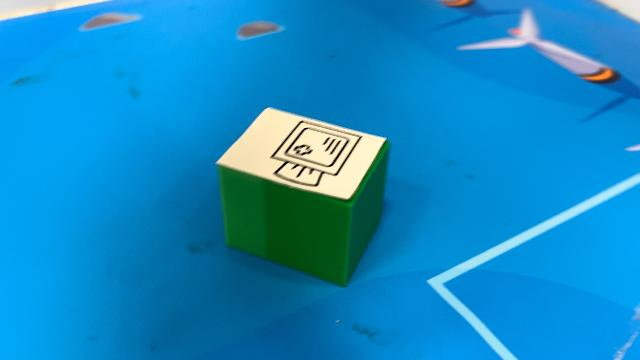napkin: (213, 104, 393, 288)
